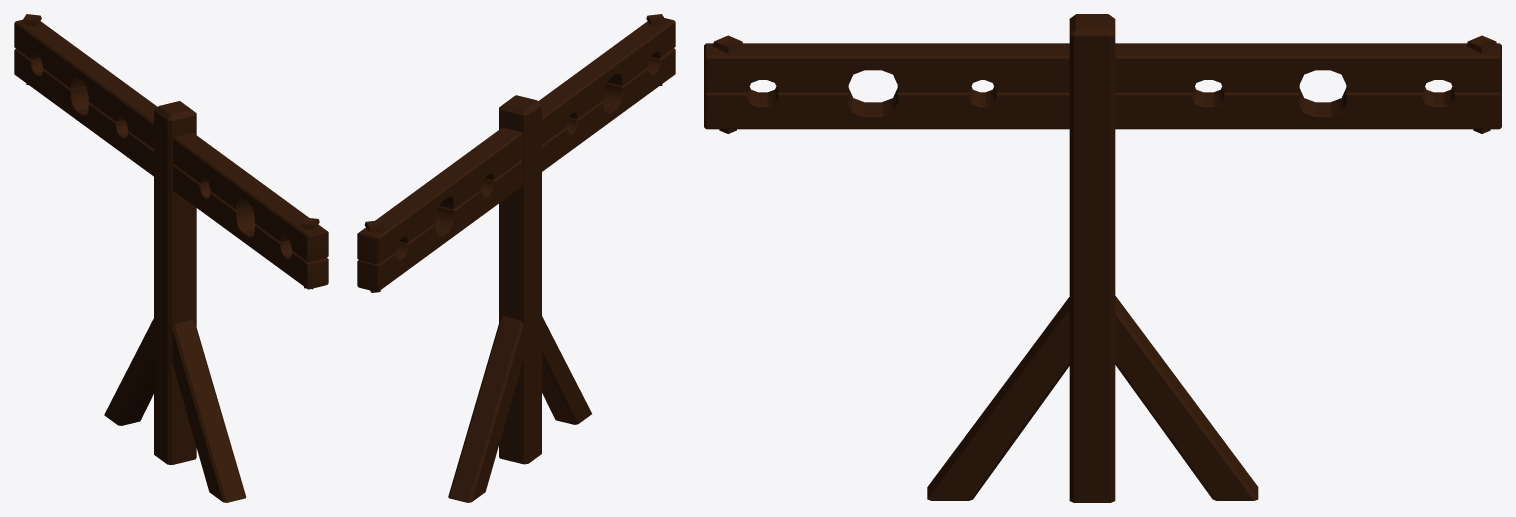
File: SM_Pillory.fbx
3 views of the same model, side by side, from view 1: azimuth 30°, elevation 25°; view 2: azimuth 150°, elevation 25°; view 3: azimuth 270°, elevation 25° (orthographic). The views are drawn at different scales.
Visible parts, largest first — view 1: Pillory; view 2: Pillory; view 3: Pillory.
Part boxes in pixels (x1,y1,x2,y2): Pillory: (14, 14, 328, 502); Pillory: (357, 14, 675, 502); Pillory: (704, 14, 1501, 502).
Bounding box in the file's own units: 1 × 11.4 × 17.45.
